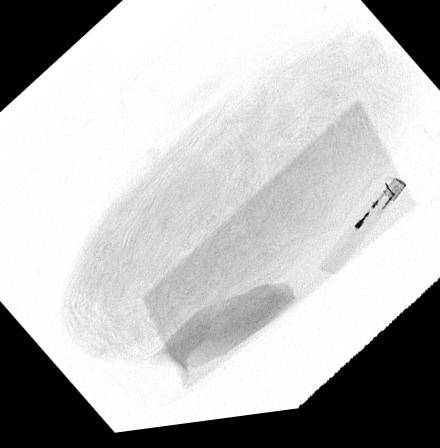Lighter: (318, 186, 408, 284)
